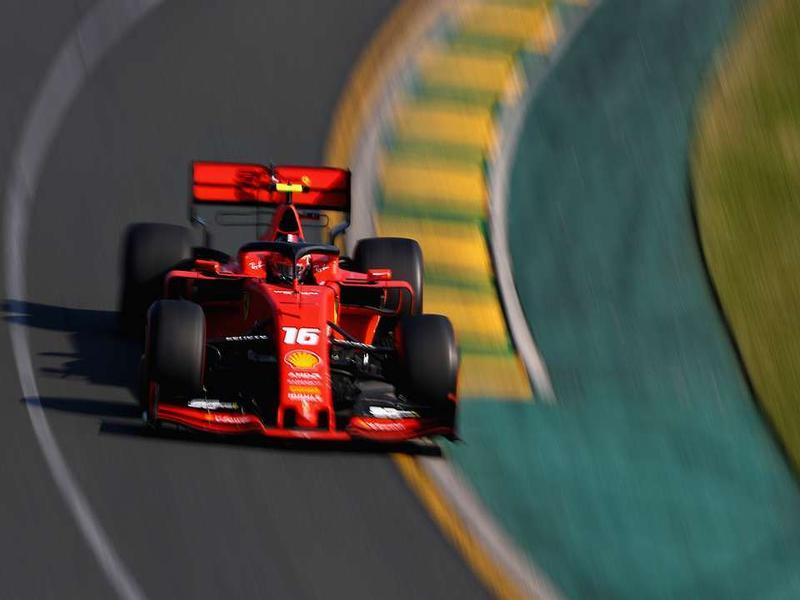f1: (111, 142, 461, 451)
